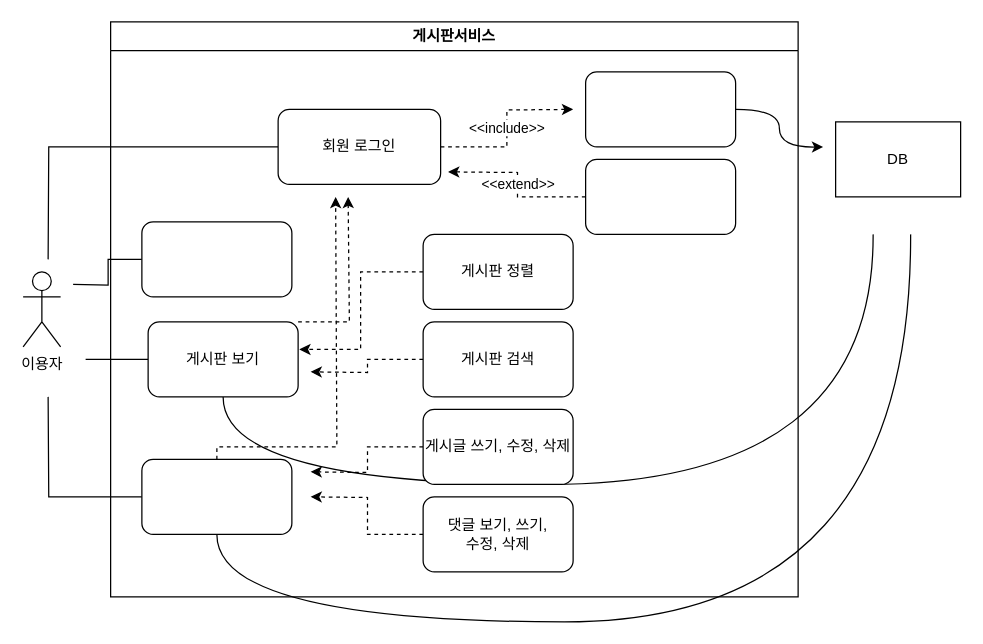
Some shapes in this 983 by 644 pixel diagram are drawn without their labels. The centre of each missing label's shape, as x and y in pixels:
게시글 보기: the point at 216,496
로그인 실패: the point at 660,196
인증: the point at 660,109
회원가입: the point at 216,259
